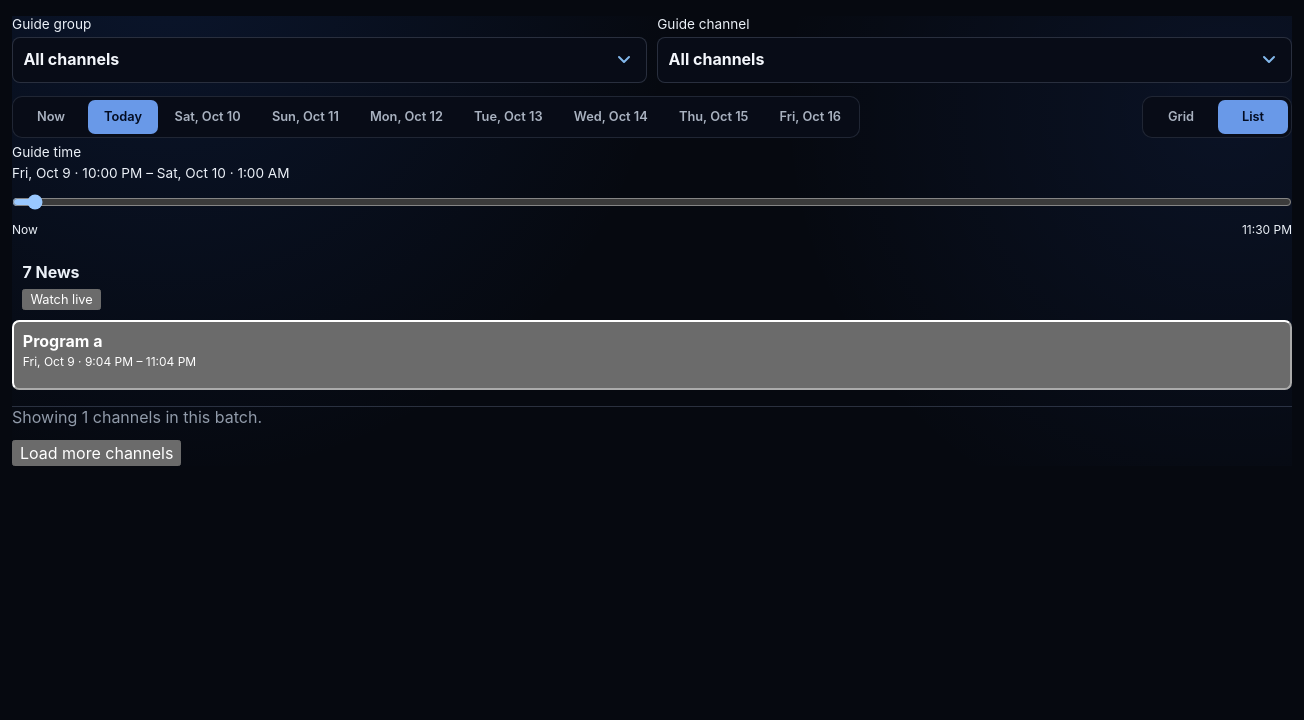
Test: appends channel pages using the snapshot and resets on date navigation
Click the button "Load more channels": (97,453) [12,440,181,466]
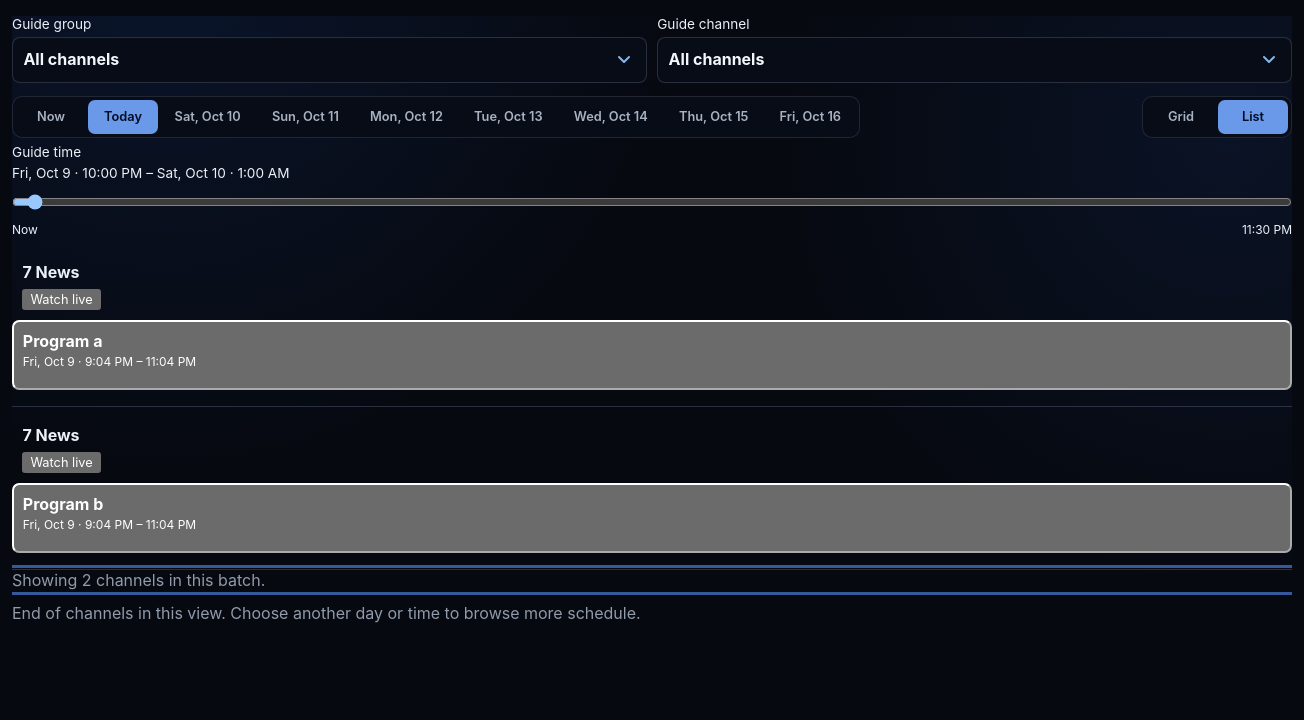
Expected: the button with aria-label "Program a," is shown, [12,320,1292,390]
Expected: the button with aria-label "Program b," is shown, [12,483,1292,553]
Click the button "Sat, Oct 10": (208,117) [160,100,255,134]
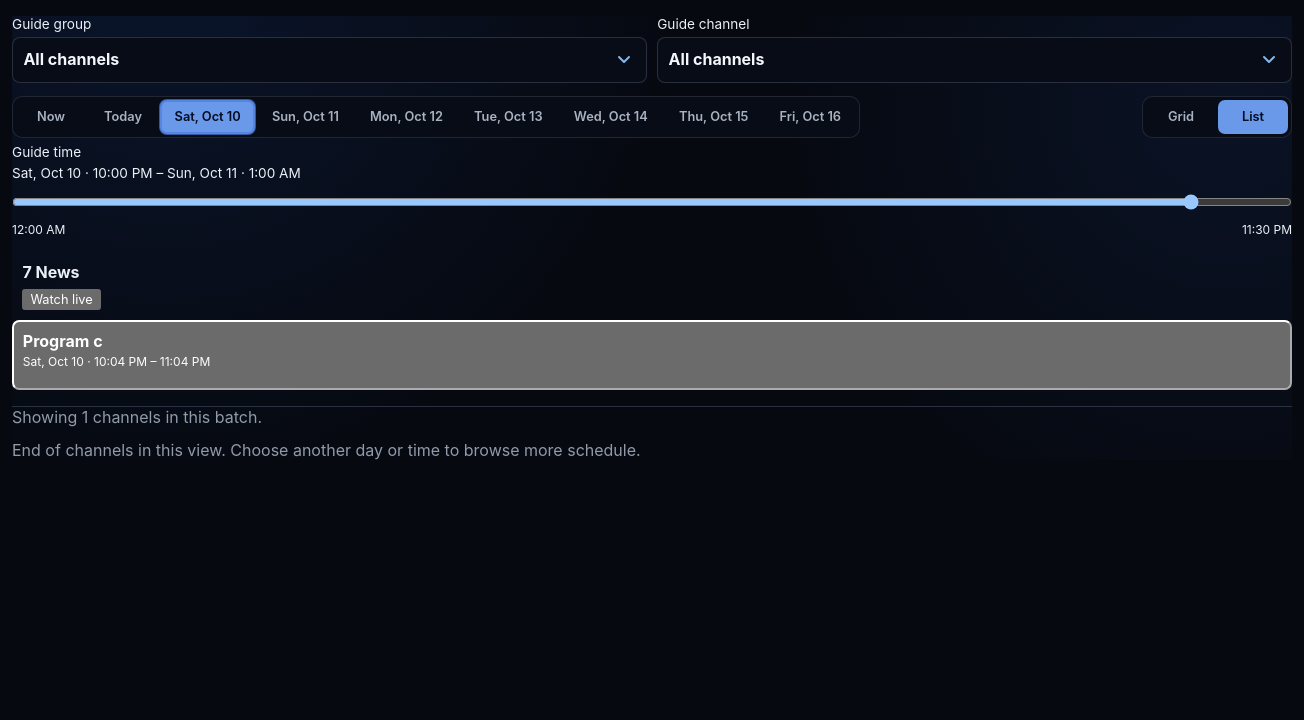
Expected: the button with aria-label "Program c," is shown, [12,320,1292,390]
